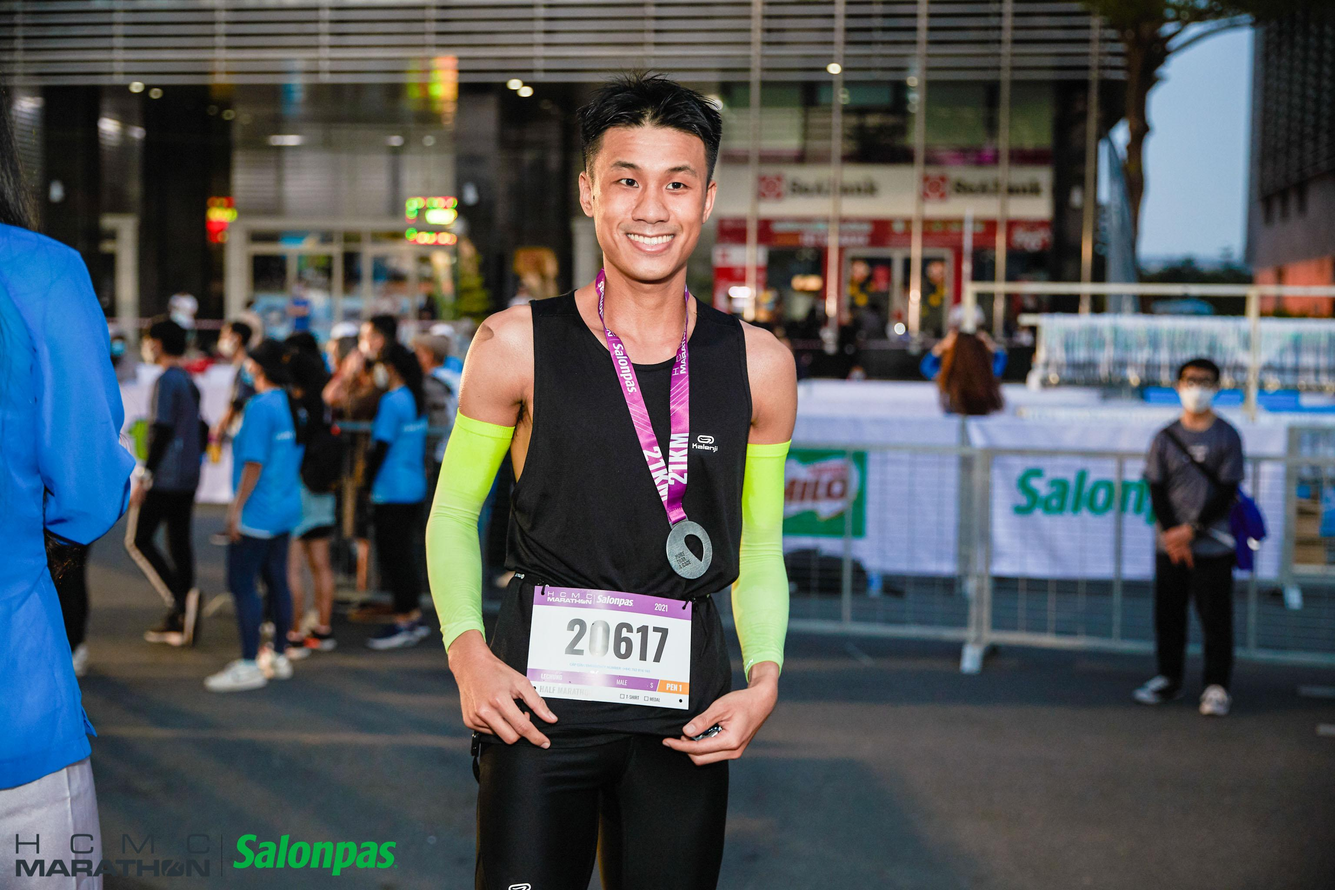bib: (526, 583, 695, 713)
